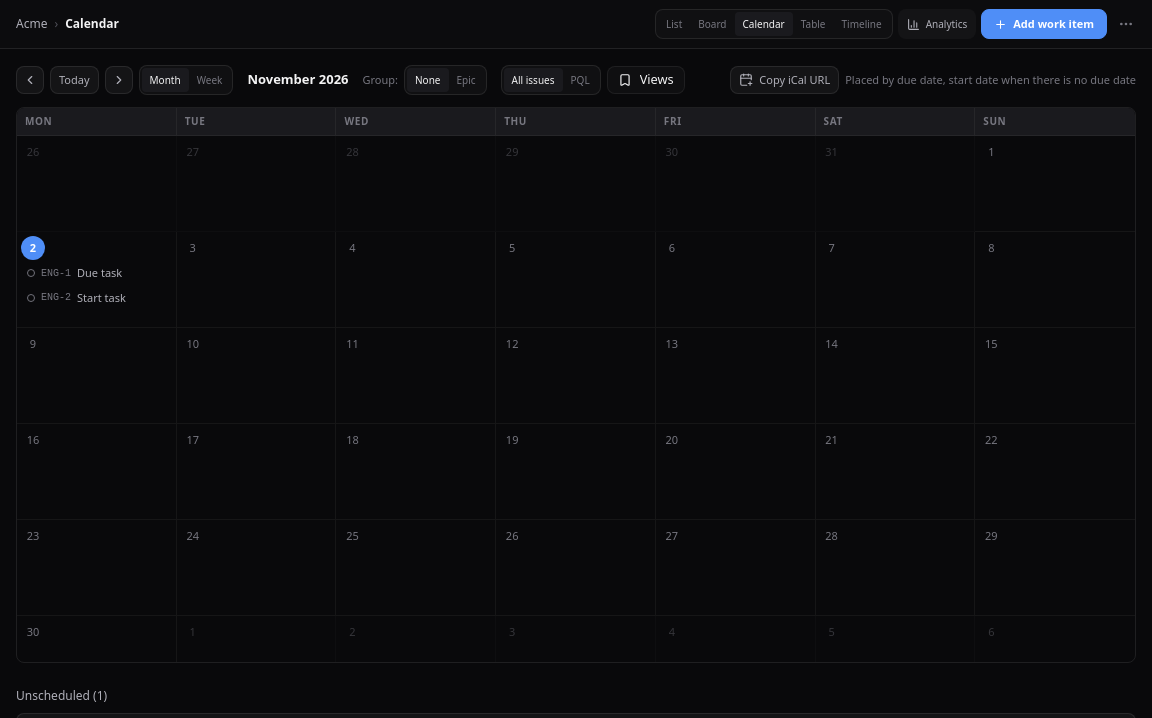
calendar saved views (C110T1) › applying a PQL view enters PQL mode with the view's query applied and the window anchor unchanged
This screenshot has width=1152, height=718.
Check: the text "Due task" is shown, box [77,265,122,282]
Check: the text "Start task" is shown, box [77,290,126,306]
Click the button with aria-label "Saved views": (646, 80) [607,66,685,94]
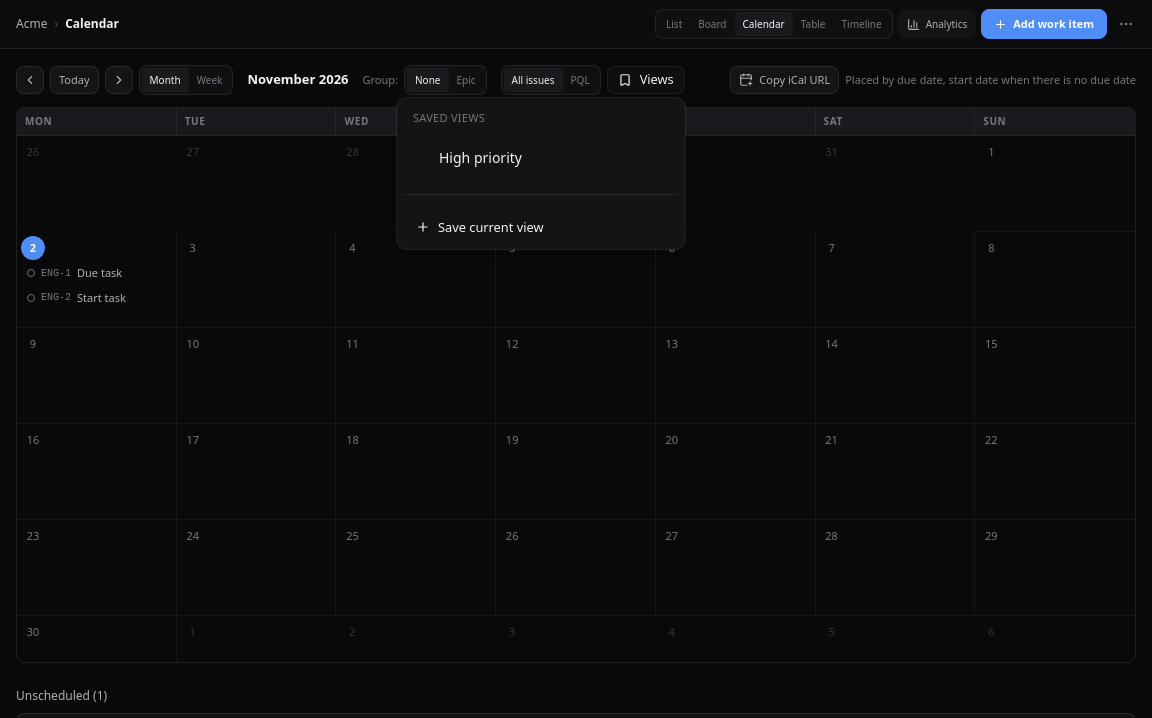
Check: the button "Save current view" is shown, box [405,213,677,241]
Click the button titled "Apply view “High priority”": (481, 158) [409,142,553,174]
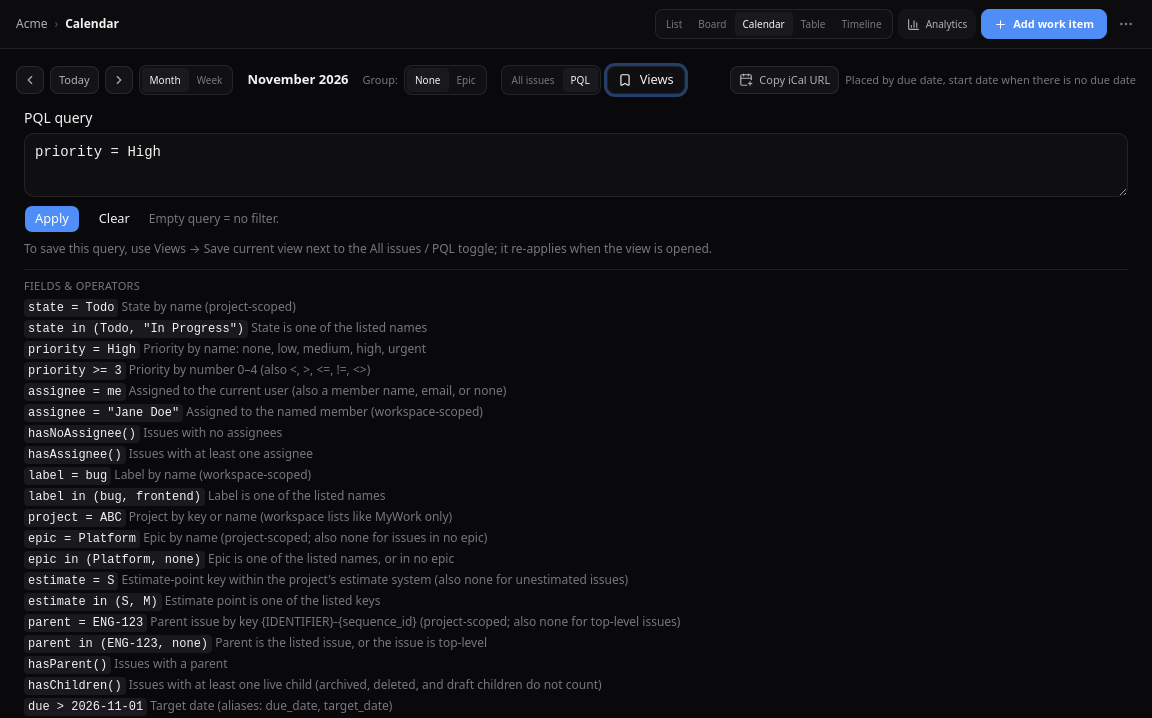
Check: the button "Due task" is gone
